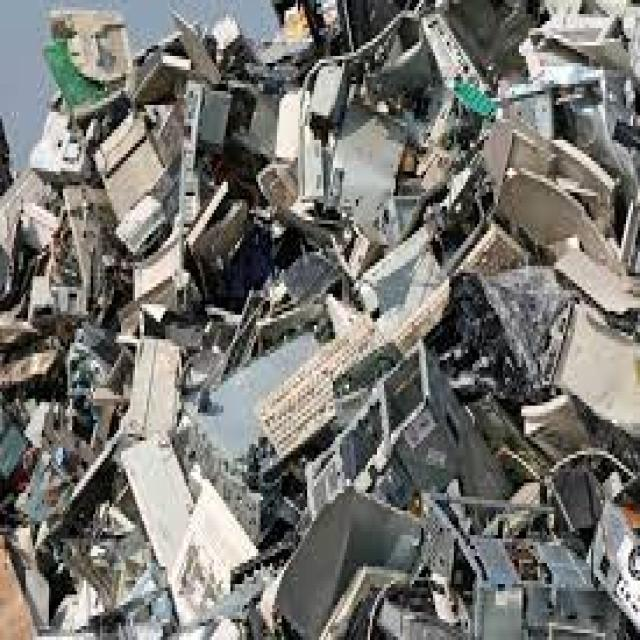Hazard: (2, 0, 640, 638)
